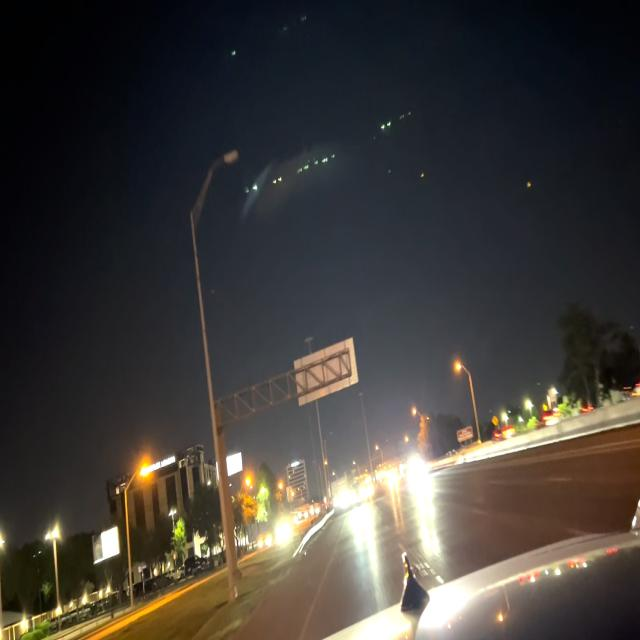back-of-sign: (295, 337, 359, 408)
